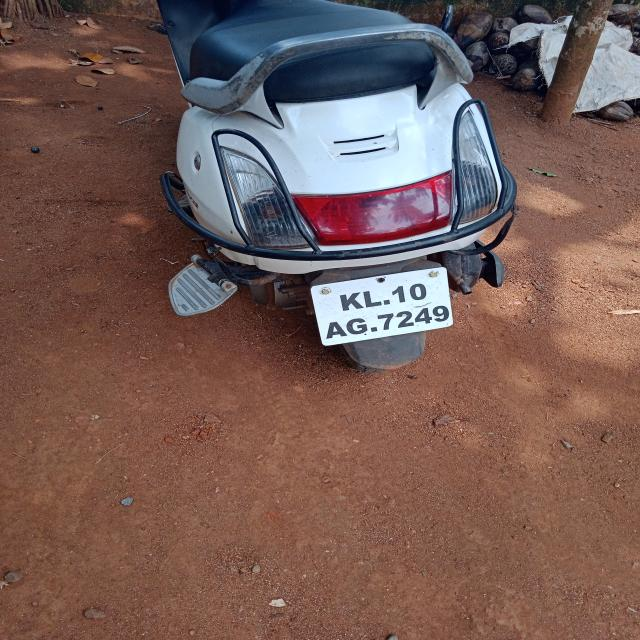Number_Plate_Detected: (306, 261, 466, 355)
